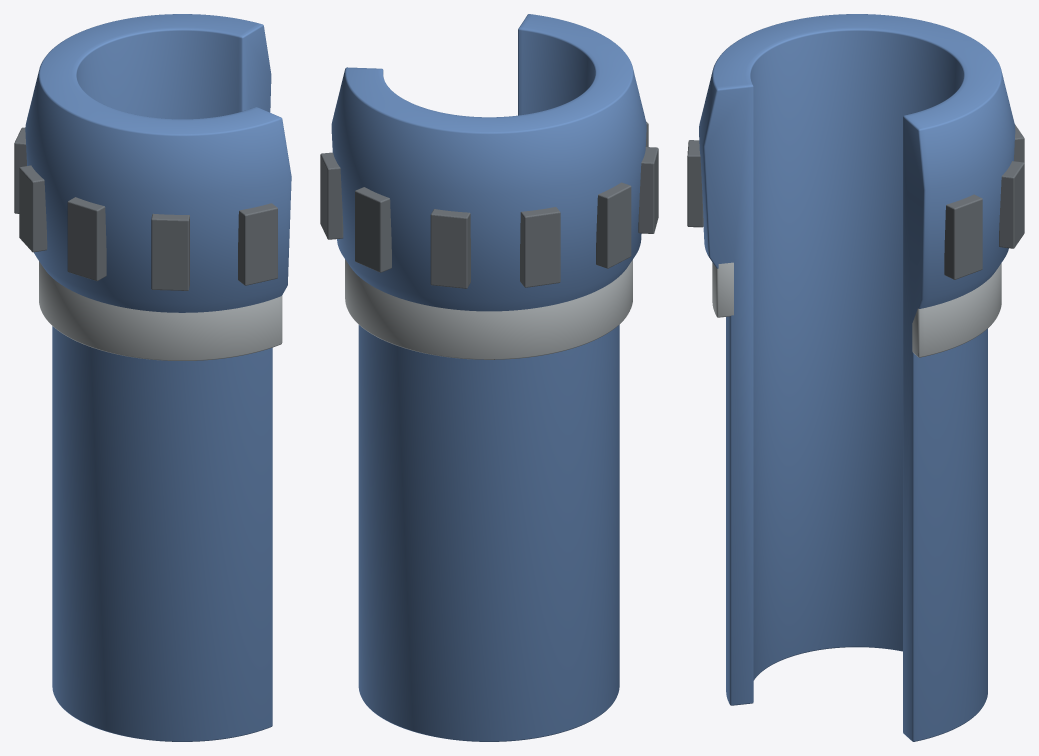
The model's file is drilling-liner.glb.
The picture shows the model from 3 angles, left to right: view 1: azimuth 30°, elevation 25°; view 2: azimuth 150°, elevation 25°; view 3: azimuth 270°, elevation 25°; orthographic projection.
Visible parts, largest first — view 1: Drilling liner hanger, Hydraulic piston band, Hydraulic hanger slip 7, Hydraulic hanger slip 5, Hydraulic hanger slip 6, Hydraulic hanger slip 4, Hydraulic hanger slip 3; view 2: Drilling liner hanger, Hydraulic piston band, Hydraulic hanger slip 3, Hydraulic hanger slip 2, Hydraulic hanger slip 1, Hydraulic hanger slip 4, Hydraulic hanger slip 0, Hydraulic hanger slip 5; view 3: Drilling liner hanger, Hydraulic piston band, Hydraulic hanger slip 0, Hydraulic hanger slip 1, Hydraulic hanger slip 7.
Boxes of the visible parts, <box> form: Drilling liner hanger: <box>25,14,291,741</box>; Hydraulic piston band: <box>39,261,282,360</box>; Hydraulic hanger slip 7: <box>238,203,277,285</box>; Hydraulic hanger slip 5: <box>67,197,106,281</box>; Hydraulic hanger slip 6: <box>151,213,189,290</box>; Hydraulic hanger slip 4: <box>19,165,47,252</box>; Hydraulic hanger slip 3: <box>14,127,26,213</box>; Drilling liner hanger: <box>331,14,646,741</box>; Hydraulic piston band: <box>345,259,632,359</box>; Hydraulic hanger slip 3: <box>520,207,560,287</box>; Hydraulic hanger slip 2: <box>430,209,470,288</box>; Hydraulic hanger slip 1: <box>355,187,391,272</box>; Hydraulic hanger slip 4: <box>596,182,631,268</box>; Hydraulic hanger slip 0: <box>320,152,343,239</box>; Hydraulic hanger slip 5: <box>638,147,658,233</box>; Drilling liner hanger: <box>699,14,1015,741</box>; Hydraulic piston band: <box>712,262,1001,357</box>; Hydraulic hanger slip 0: <box>944,194,982,279</box>; Hydraulic hanger slip 1: <box>999,161,1024,248</box>; Hydraulic hanger slip 7: <box>687,140,703,227</box>.
Size of the model in its own units: 2.29 by 5 by 2.47.
